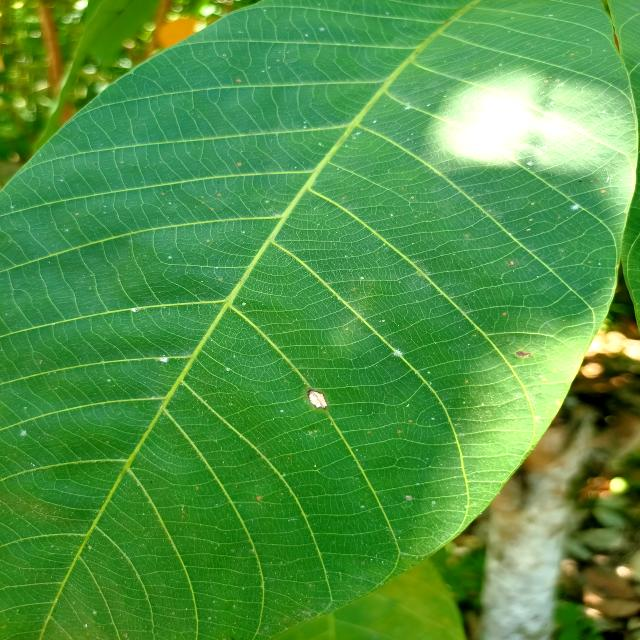Leaf-Blight: (308, 391, 327, 408)
